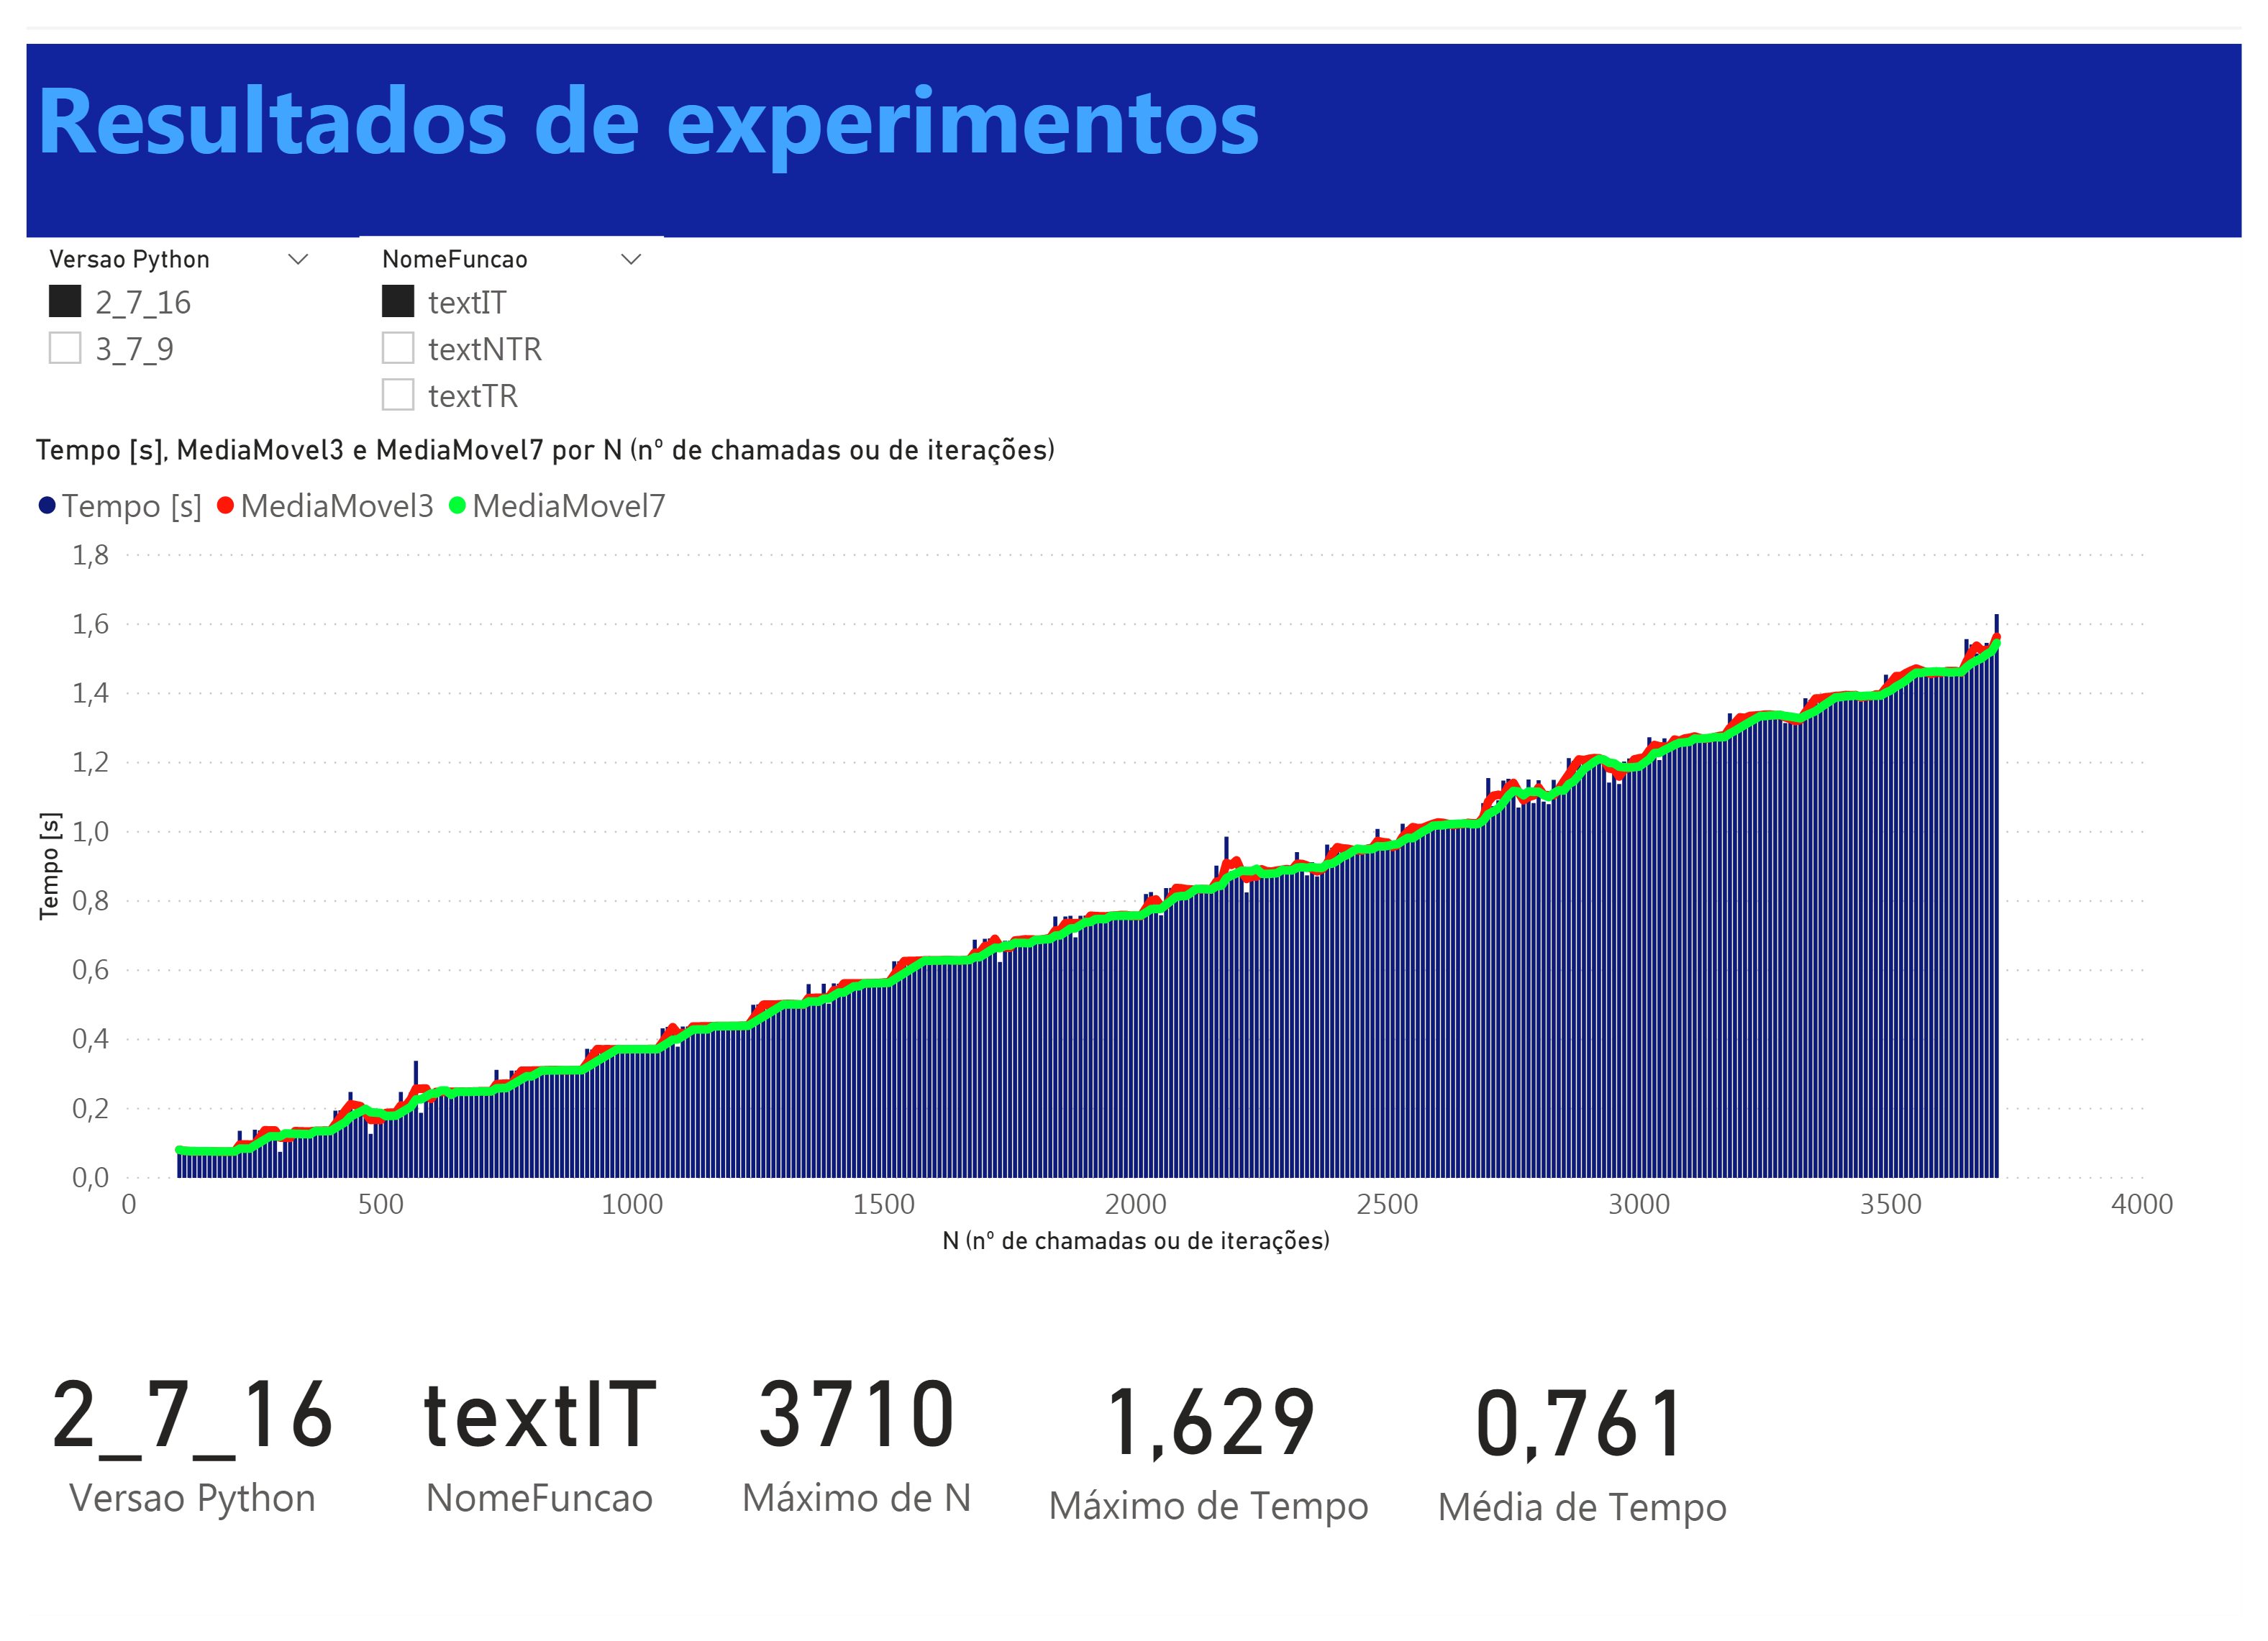

This screenshot's page, from the dashboard's own definition file:
{"tool":"powerbi","page":{"name":"Fatorial","canvas":[1280,900],"ordinal":1},"visuals":[{"type":"lineClusteredColumnComboChart","fields":{"Category":["Tabela1.N"],"Y2":["Tabela1.MediaMovel3","Tabela1.MediaMovel7"],"Y":["Sum(Tabela1.Tempo)"]},"box":[0,240,1272,480],"z":0},{"type":"card","fields":{"Values":["Max(Tabela1.Tempo)"]},"box":[640,720,240,176],"z":1000},{"type":"card","fields":{"Values":["Min(Tabela1.NomeFuncao)"]},"box":[216,708,216,192],"z":2000},{"type":"card","fields":{"Values":["Max(Tabela1.N)"]},"box":[432,720,208,176],"z":3000},{"type":"card","fields":{"Values":["Avg(Tabela1.Tempo)"]},"box":[880,720,208,176],"z":4000},{"type":"slicer","fields":{"Values":["Tabela1.Versao Python"]},"box":[0,112,176,96],"z":5000},{"type":"card","fields":{"Values":["Min(Tabela1.Versao Python)"]},"box":[24,720,192,168],"z":6000},{"type":"textbox","box":[0,0,1280,112],"z":7000},{"type":"slicer","fields":{"Values":["Tabela1.NomeFuncao"]},"box":[208,112,176,112],"z":8000}]}

Visuals, with their boxes in screenshot pixels (x1, y1, x2, y2), scaled from the page's 1280x900 canvas onto the 2268x1641 screenshot:
lineClusteredColumnComboChart - Tabela1.N x Tabela1.MediaMovel3: l=0, t=438, r=2254, b=1313
card - Max(Tabela1.Tempo): l=1134, t=1313, r=1559, b=1634
card - Min(Tabela1.NomeFuncao): l=383, t=1291, r=765, b=1640
card - Max(Tabela1.N): l=765, t=1313, r=1134, b=1634
card - Avg(Tabela1.Tempo): l=1559, t=1313, r=1928, b=1634
slicer - Tabela1.Versao Python: l=0, t=204, r=312, b=379
card - Min(Tabela1.Versao Python): l=42, t=1313, r=383, b=1619
textbox: l=0, t=0, r=2267, b=204
slicer - Tabela1.NomeFuncao: l=368, t=204, r=680, b=408
